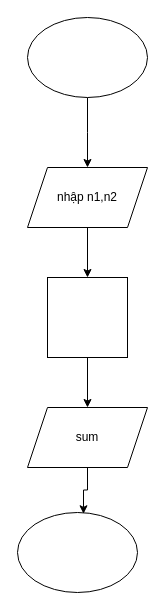
The diagram is 165 pixels wide and 610 high, and some of its shapes have lost their labels. The shapes that lost their labels are listed below. From the top down, each one's centre as x and y in pixels, then its label:
[87,57]: start
[87,317]: sum=n1+n2
